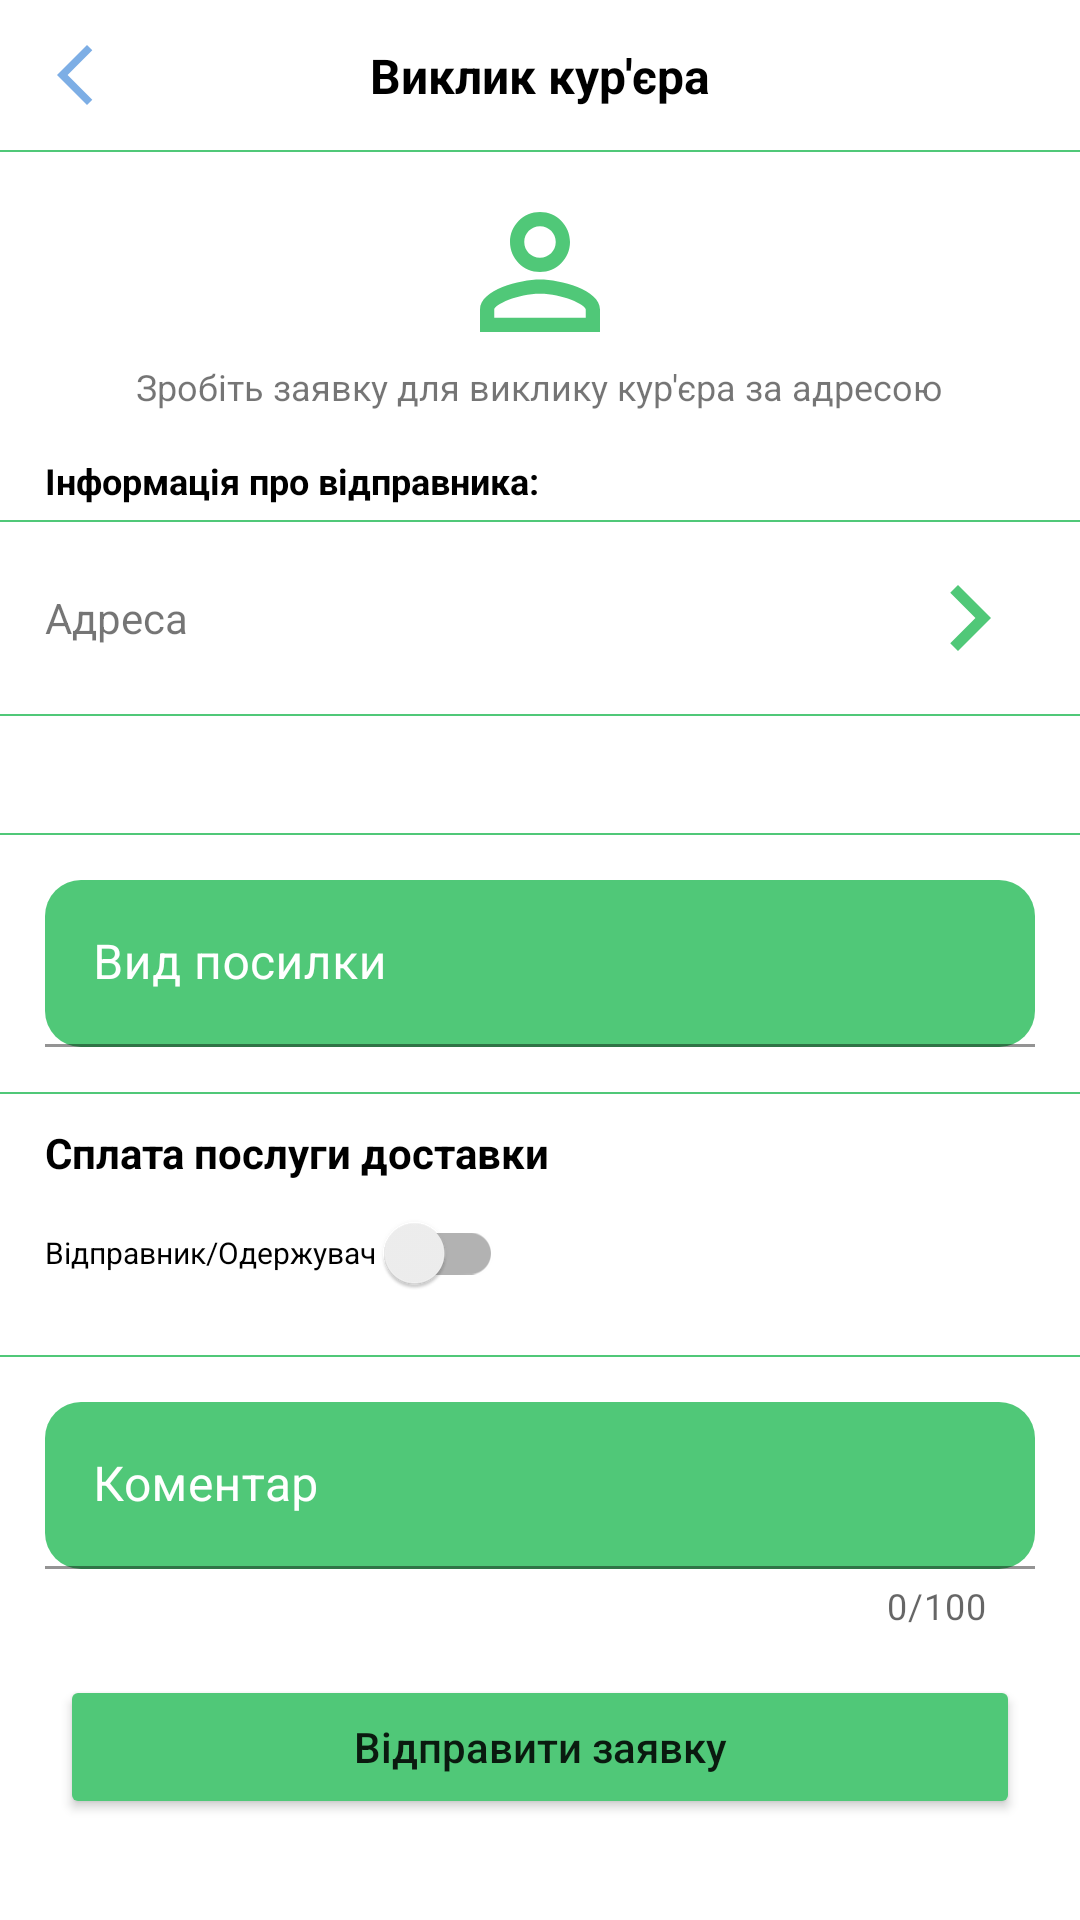

Icon bounding boxes for this 1080 x 1920 phone screenshot, format (x1, y1, x2, y2):
back: (57, 45, 92, 105)
